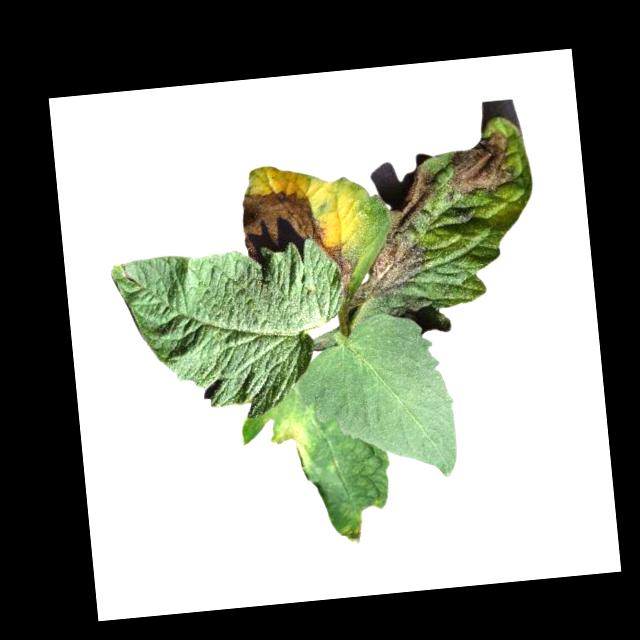Late_blight: (332, 163, 448, 311), (239, 185, 324, 256), (441, 129, 515, 198), (268, 410, 311, 476), (324, 244, 355, 300), (336, 520, 363, 546)
